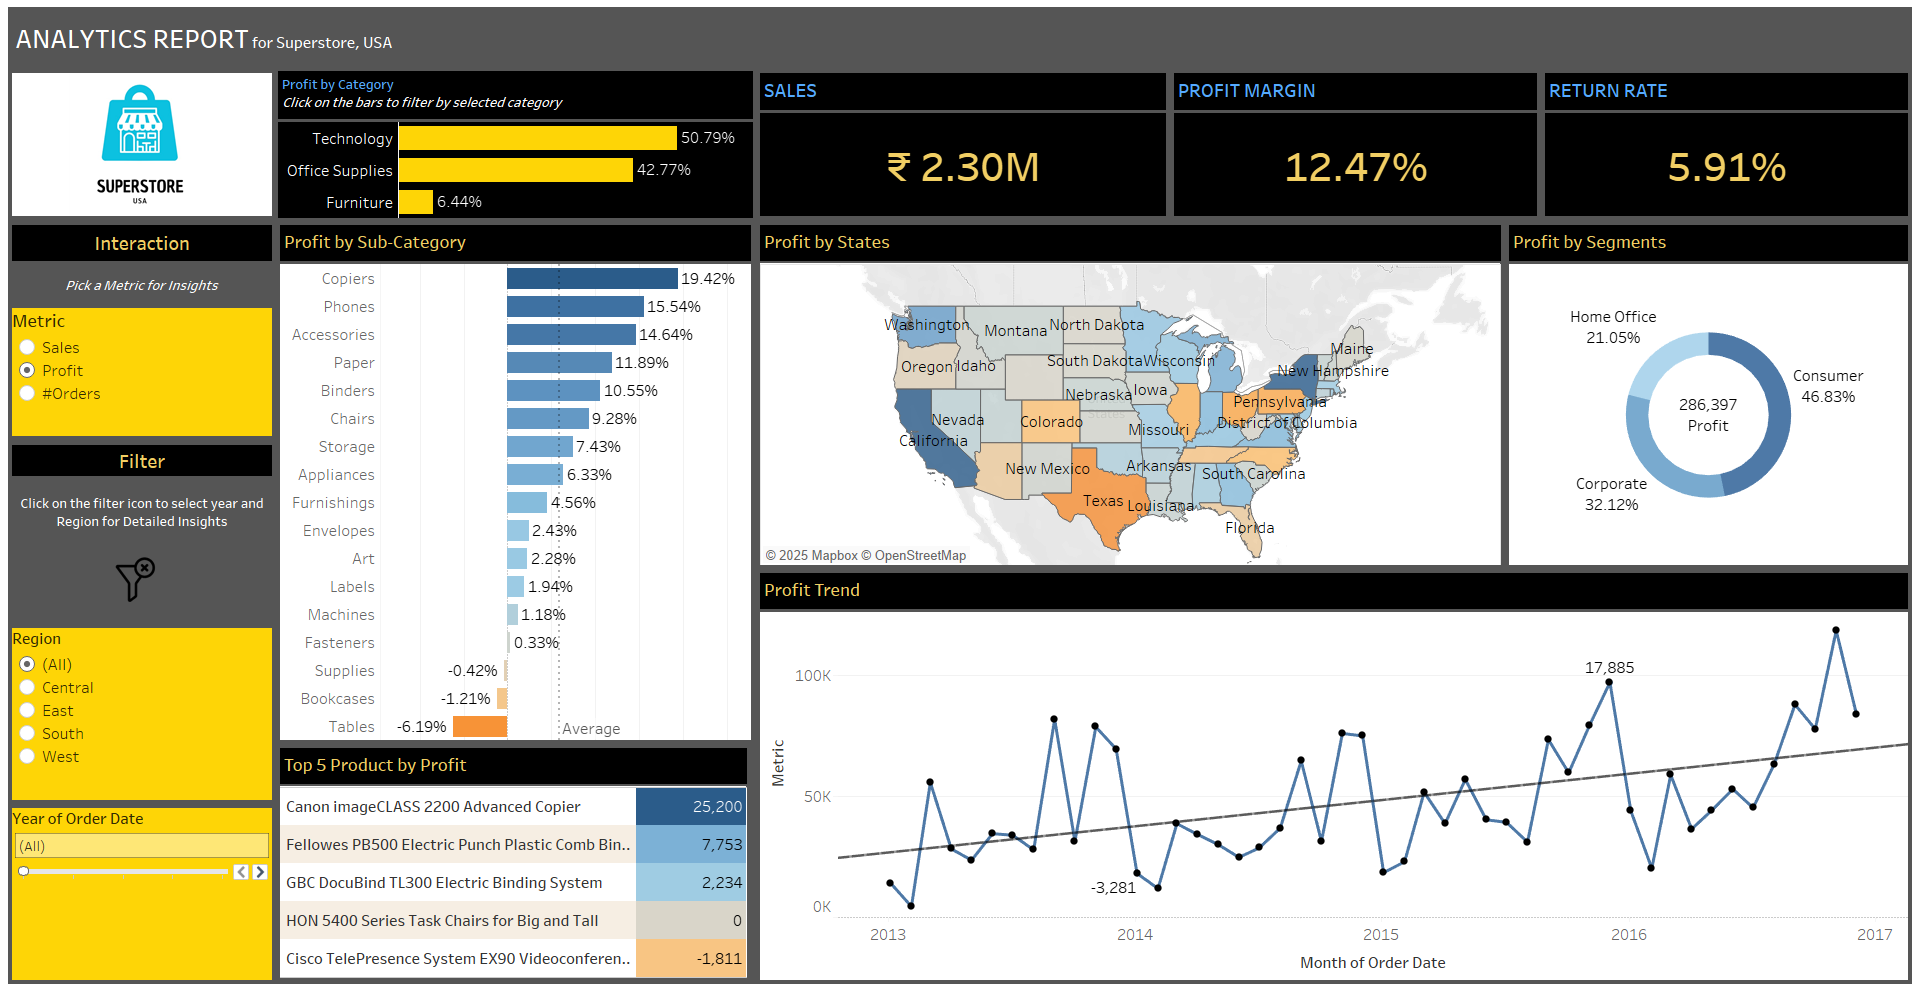

Layout of this report page (visuals, bound fields, positions):
{"tool":"tableau","page":{"name":"A 7 Dashboard ","canvas":[1000,1000],"units":"permille","ordinal":1},"visuals":[{"type":"text","box":[4.8,9.9,990.3,62.4]},{"type":"image","param":"Image/logo.png","box":[4.8,72.3,139.6,151.9]},{"type":"worksheet","title":"Category","mark":"Automatic","rows":["Category"],"cols":["Calculation_154248330098601988"],"box":[144.4,72.3,249.2,151.9]},{"type":"worksheet","title":"Total-sales","mark":"Text","box":[393.7,72.3,215.6,151.9]},{"type":"worksheet","title":"profit-margin","mark":"Automatic","box":[609.2,72.3,192.9,151.9]},{"type":"worksheet","title":"Return rate","mark":"Automatic","box":[802.1,72.3,193,151.9]},{"type":"text","box":[4.8,224.2,139.5,44.6]},{"type":"worksheet","title":"Sub-Category","mark":"Automatic","rows":["Sub-Category"],"box":[144.4,224.2,249.3,525.2]},{"type":"worksheet","title":"A 7 Map","mark":"Automatic","box":[393.7,224.2,389.8,349.7]},{"type":"worksheet","title":"A 7 Donat","mark":"Pie","rows":["Calculation_154248330088869888","Calculation_154248330088869888"],"box":[783.5,224.2,211.7,349.7]},{"type":"text","box":[4.8,268.8,139.5,39.5]},{"type":"parameter","param":"[Parameters].[Parameter 2]","box":[4.8,308.2,139.5,136.9]},{"type":"text","box":[4.8,445.1,139.5,39.5]},{"type":"text","box":[4.8,484.6,139.5,64.1]},{"type":"dashboard-object","box":[38.6,546.2,67.6,86.3]},{"type":"worksheet","title":"A 7 linechart","mark":"Line","rows":["Sales","Sales"],"cols":["Order Date"],"box":[393.7,573.9,601.5,416.2]},{"type":"filter","title":"A 7 Map","param":"[federated.1at3x561rd9ihd185l8m20e6tf73].[none:Region:nk]","box":[4.8,628.9,139.2,181.3]},{"type":"worksheet","title":"Top 5 product","mark":"Square","rows":["Product Name"],"box":[144.4,749.4,249.3,240.8]},{"type":"filter","title":"A 7 Map","param":"[federated.1at3x561rd9ihd185l8m20e6tf73].[none:Calculation_405042535065518084:ok","box":[4.8,810.1,139.2,180]}]}

Visuals, with their boxes on the dashboard's canvas, which has no fixed pixel size, in thousandths of its width and height (x1, y1, x2, y2). These are canvas units, not pixel positions in the 1920x987 screenshot, which may show the page scaled, cropped or inside an application window:
text: bbox=(5, 10, 995, 72)
image: bbox=(5, 72, 144, 224)
"Category" worksheet: bbox=(144, 72, 394, 224)
"Total-sales" worksheet (Text marks): bbox=(394, 72, 609, 224)
"profit-margin" worksheet: bbox=(609, 72, 802, 224)
"Return rate" worksheet: bbox=(802, 72, 995, 224)
text: bbox=(5, 224, 144, 269)
"Sub-Category" worksheet: bbox=(144, 224, 394, 749)
"A 7 Map" worksheet: bbox=(394, 224, 784, 574)
"A 7 Donat" worksheet (Pie marks): bbox=(784, 224, 995, 574)
text: bbox=(5, 269, 144, 308)
parameter: bbox=(5, 308, 144, 445)
text: bbox=(5, 445, 144, 485)
text: bbox=(5, 485, 144, 549)
dashboard-object: bbox=(39, 546, 106, 632)
"A 7 linechart" worksheet (Line marks): bbox=(394, 574, 995, 990)
"A 7 Map" filter: bbox=(5, 629, 144, 810)
"Top 5 product" worksheet (Square marks): bbox=(144, 749, 394, 990)
"A 7 Map" filter: bbox=(5, 810, 144, 990)
